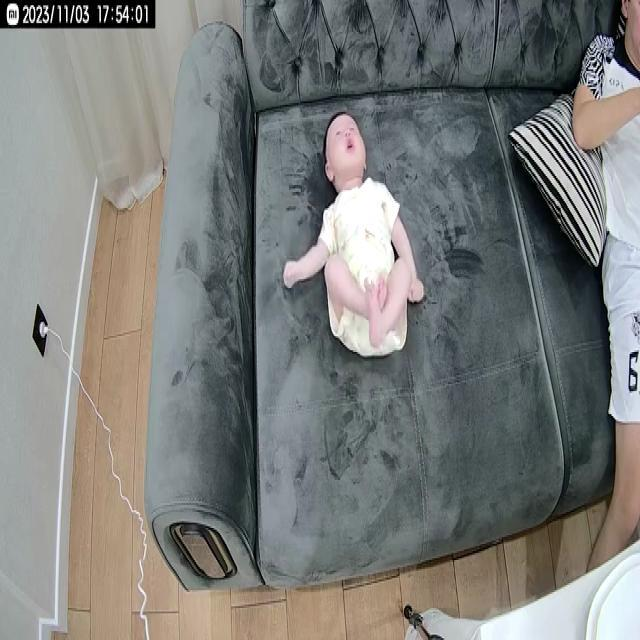baby: (280, 107, 426, 370)
